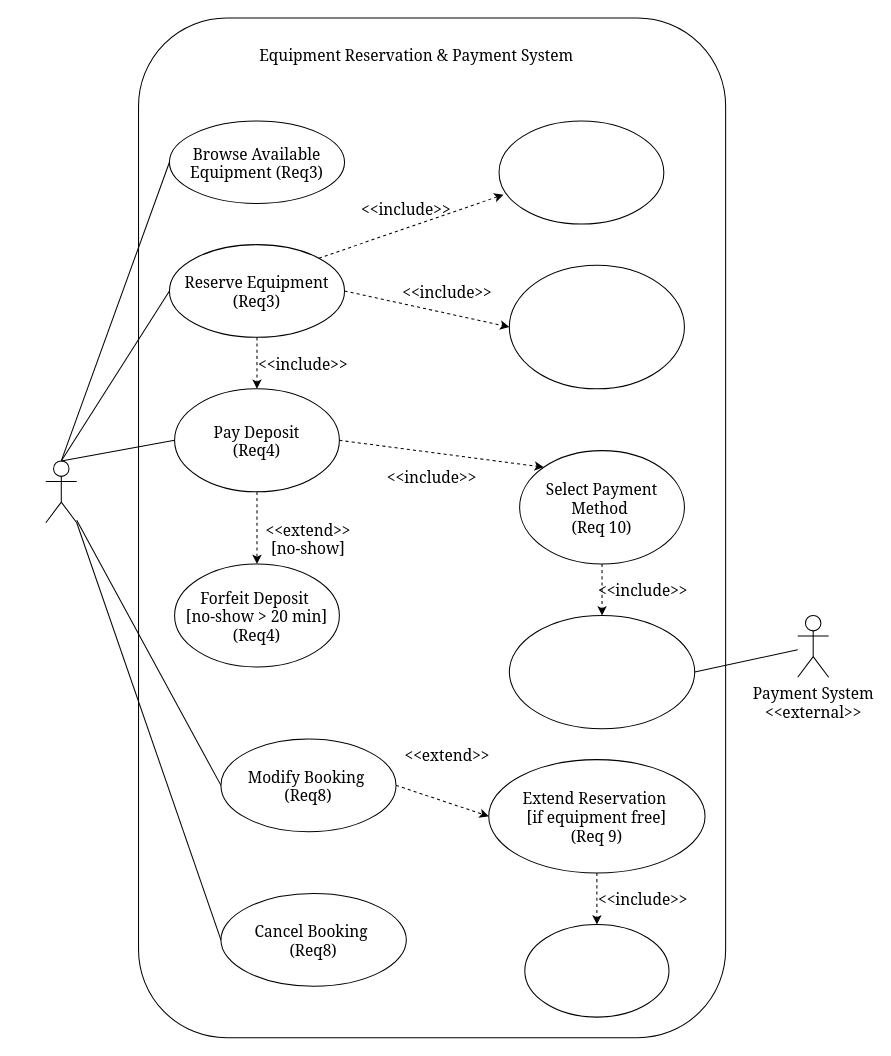
Some shapes in this 891 by 1056 pixel diagram are drawn without their labels. The shapes that lost their labels are listed below. From the top down, each one's box as (x1, y1, x2, y2) in pixels, then its label:
(498, 120, 664, 224): Check Equipement Availability (Req 3)
(508, 264, 684, 389): Provide Student/Staff ID/Cert (Req8)
(45, 460, 77, 523): User (Student/ Faculty/ Researcher/ Guest)
(508, 614, 695, 729): Process Payment (External) (Req10)
(524, 923, 669, 1017): Check Post-Booking Availability
